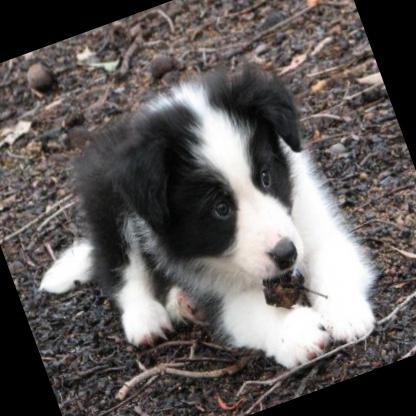Border_collie: (0, 31, 400, 416)
